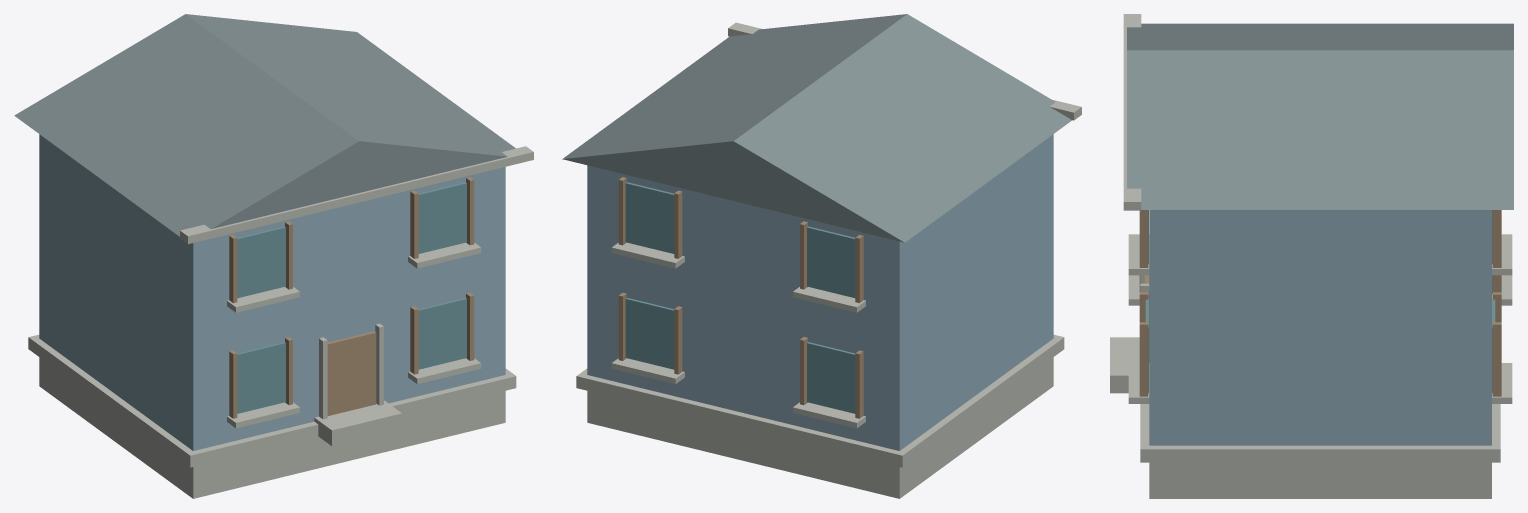
File: nord-1.glb
3 renders of one model, left to right at view 1: azimuth 30°, elevation 25°; view 2: azimuth 150°, elevation 25°; view 3: azimuth 270°, elevation 25°, orthographic. The views are drawn at different scales.
Size of the model in its own units: 4.54 by 4.1 by 4.13.
